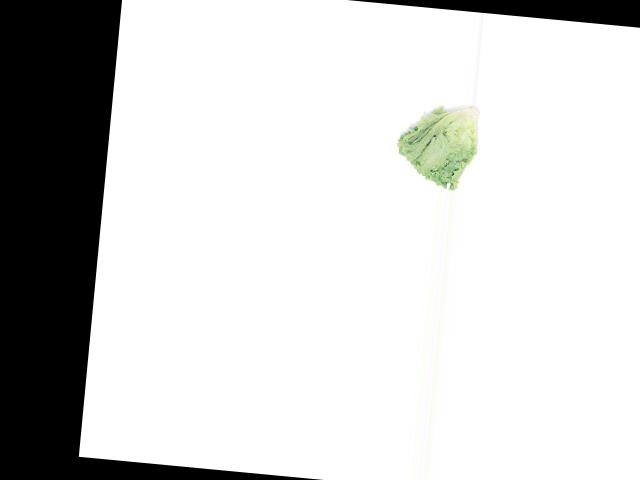lettuce: (386, 96, 488, 192)
